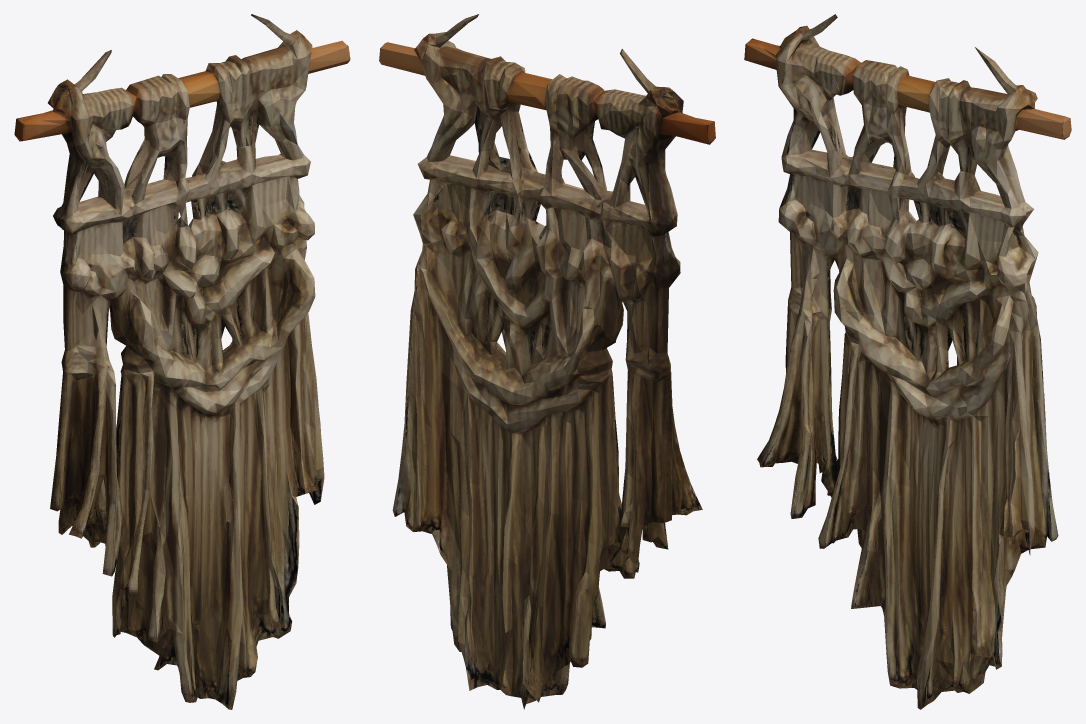
The model's file is jute-macrame-wall-hanging-new-style.jpeg.glb.
The picture shows the model from 3 angles, left to right: view 1: azimuth 30°, elevation 25°; view 2: azimuth 150°, elevation 25°; view 3: azimuth 330°, elevation 25°; orthographic projection. The views are drawn at different scales.
Parts seen in each view (by area): view 1: world; view 2: world; view 3: world.
Boxes of the visible parts, <box> form: world: <box>14,14,350,709</box>; world: <box>379,14,715,709</box>; world: <box>744,14,1071,709</box>.
Size of the model in its own units: 0.5065 by 0.9978 by 0.1237.
1 material, 1 textured.
